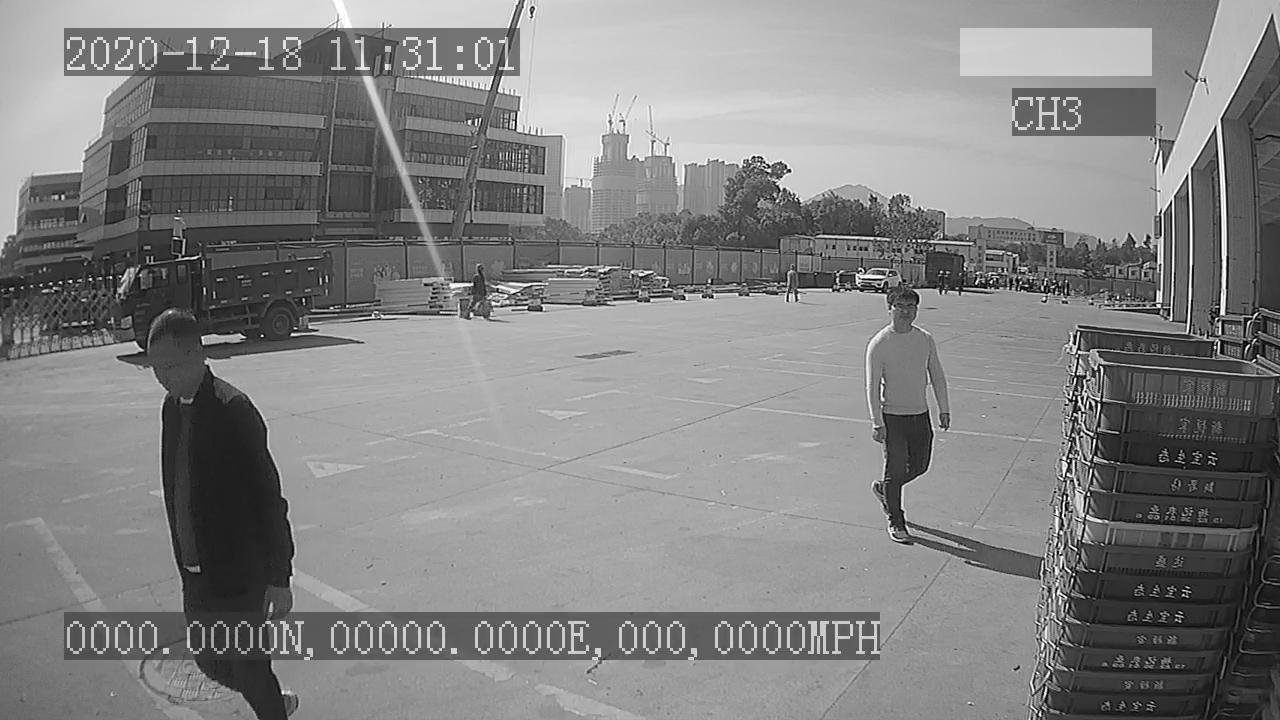person: (862, 284, 950, 546)
